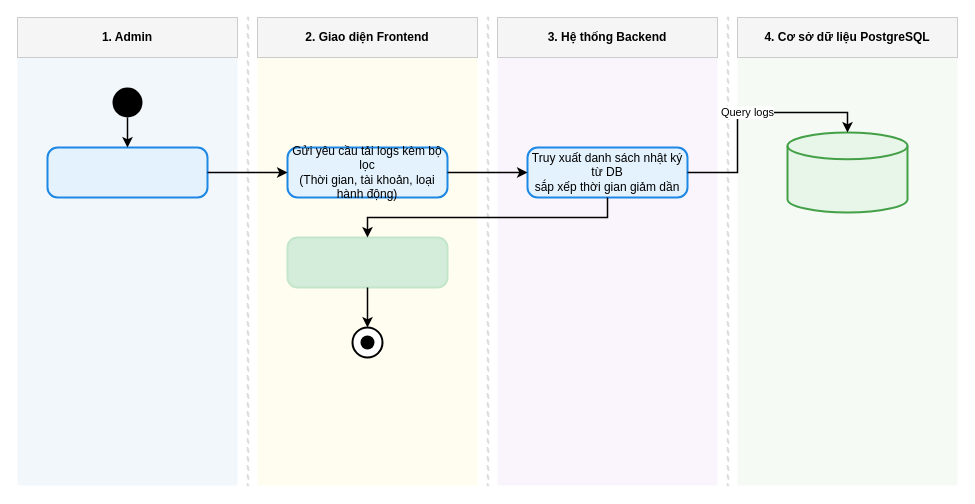
The diagram is 975 pixels wide and 504 high, and some of its shapes have lost their labels. The shapes that lost their labels are listed below. From the top down, each one's centre as x and y in pixels, then its label:
(x=127, y=172): Mở trang Tra cứu Audit Log (Chỉ ADMIN hệ thống)
(x=847, y=172): Bảng AuditLogs
(x=367, y=262): Hiển thị bảng nhật ký hoạt động giúp theo dõi và truy vết bảo mật
